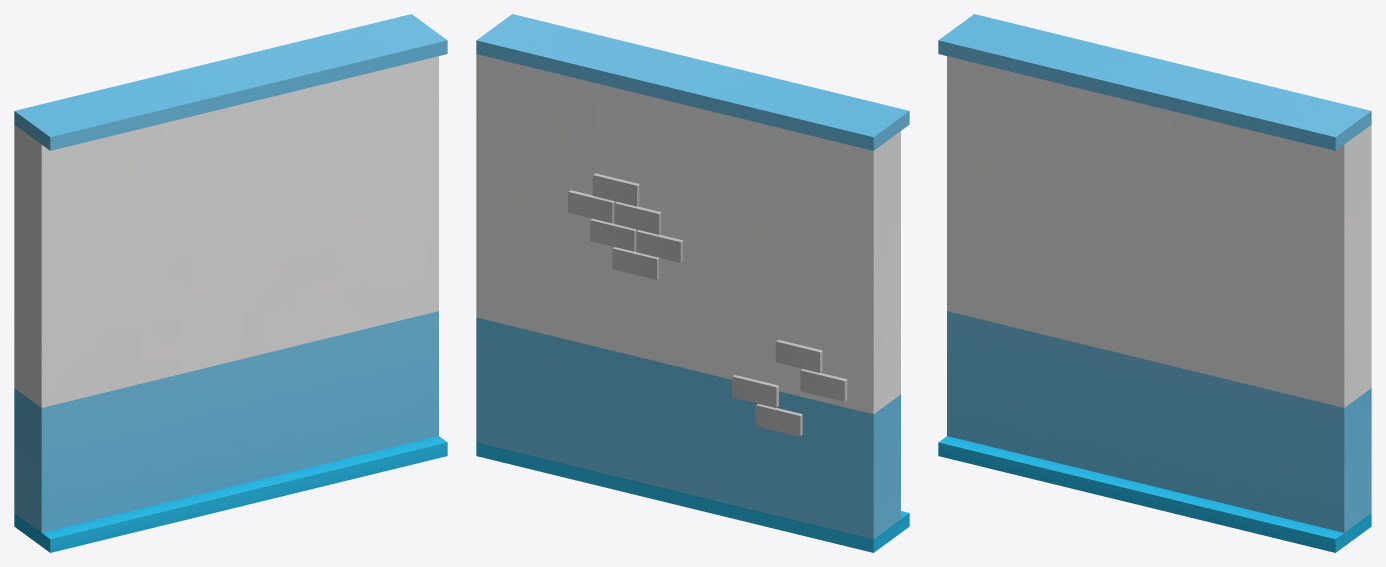
Rendered from wall_2.glb.
3 views of the same model, side by side, from view 1: azimuth 30°, elevation 25°; view 2: azimuth 150°, elevation 25°; view 3: azimuth 330°, elevation 25° (orthographic).
Parts seen in each view (by area): view 1: wall_2; view 2: wall_2, bricks; view 3: wall_2.
Part boxes in pixels (x1,y1,x2,y2): wall_2: (14, 14, 447, 552); wall_2: (476, 14, 909, 552); bricks: (568, 173, 847, 436); wall_2: (938, 14, 1371, 552).
Bounding box in the file's own units: 2 × 2 × 0.3357.
1 material, 1 textured.
